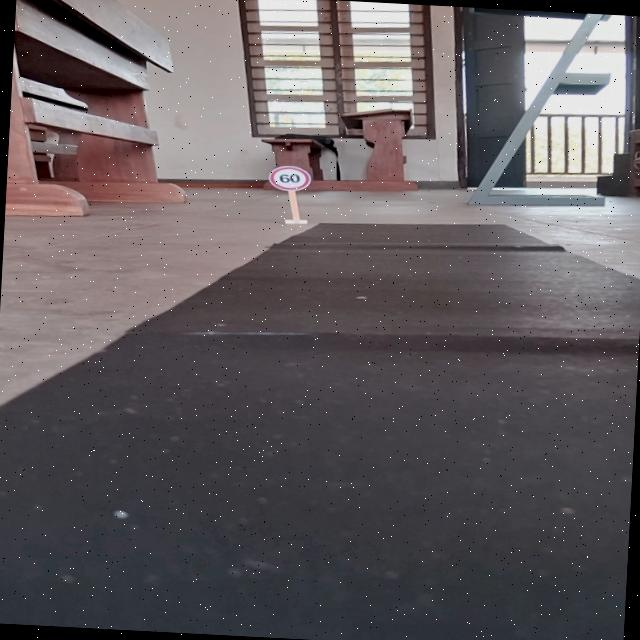Speed60: (266, 164, 314, 193)
